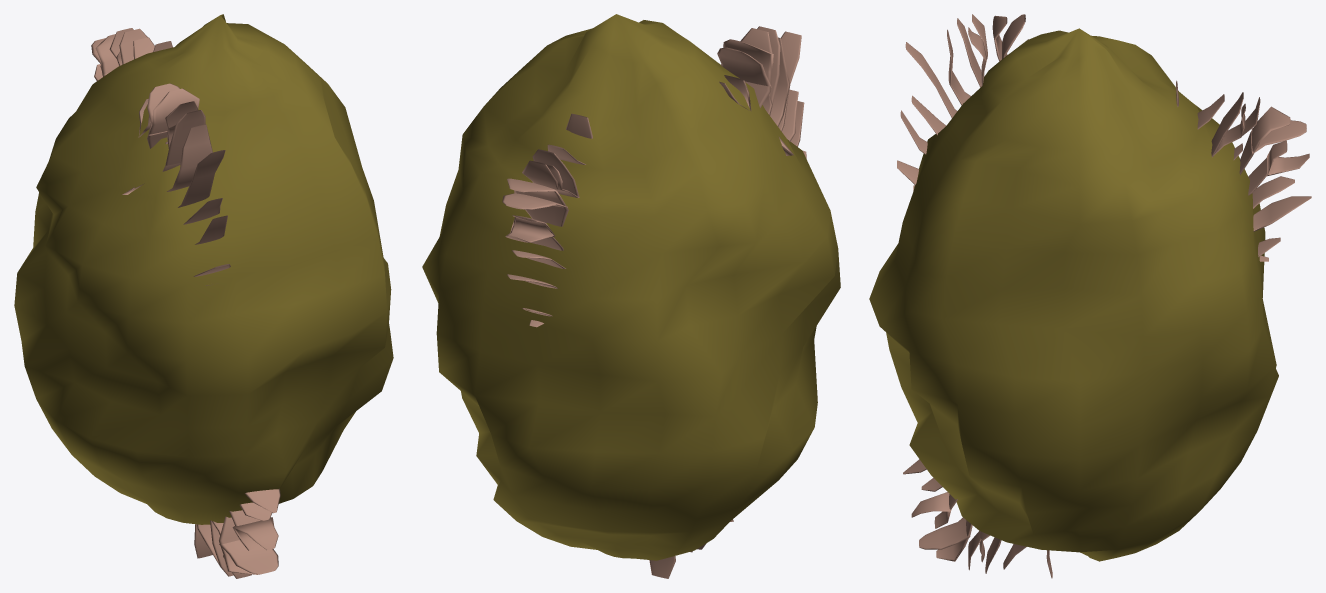
The model's file is SementeBatata.fbx.
3 views of the same model, side by side, from view 1: azimuth 30°, elevation 25°; view 2: azimuth 150°, elevation 25°; view 3: azimuth 270°, elevation 25° (orthographic). The views are drawn at different scales.
Parts seen in each view (by area): view 1: pSphere1, pasted__pasted__roots1, pasted__pasted__roots2, pasted__pasted__roots; view 2: pSphere1, pasted__pasted__roots1, pasted__pasted__roots; view 3: pSphere1, pasted__pasted__roots, pasted__pasted__roots1, pasted__pasted__roots2.
Boxes of the visible parts, left/top/right/bottom form: pSphere1: left=14, top=14, right=393, bottom=524; pasted__pasted__roots1: left=122, top=83, right=230, bottom=285; pasted__pasted__roots2: left=194, top=488, right=280, bottom=578; pasted__pasted__roots: left=91, top=28, right=172, bottom=80; pSphere1: left=422, top=14, right=840, bottom=560; pasted__pasted__roots1: left=717, top=26, right=806, bottom=158; pasted__pasted__roots: left=502, top=113, right=592, bottom=327; pSphere1: left=869, top=28, right=1278, bottom=561; pasted__pasted__roots: left=1176, top=80, right=1311, bottom=261; pasted__pasted__roots1: left=897, top=14, right=1028, bottom=190; pasted__pasted__roots2: left=903, top=459, right=1052, bottom=578.
Bounding box in the file's own units: 1.94 × 2.95 × 2.11.
